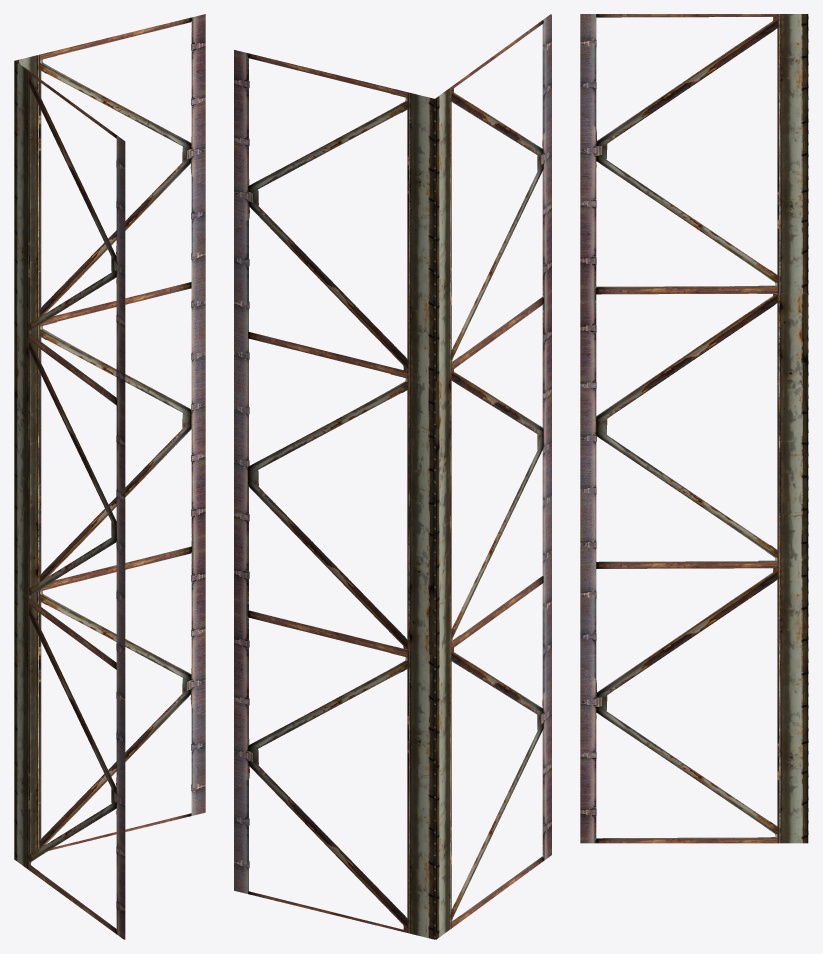
Rendered from Wall_Girders_Giant10mts_05.fbx.
3 views of the same model, side by side, from view 1: azimuth 30°, elevation 25°; view 2: azimuth 150°, elevation 25°; view 3: azimuth 270°, elevation 25° (orthographic). The views are drawn at different scales.
Visible parts, largest first — view 1: Wall_Girders_Giant10mts_05; view 2: Wall_Girders_Giant10mts_05; view 3: Wall_Girders_Giant10mts_05.
Boxes of the visible parts, left/top/right/bottom form: Wall_Girders_Giant10mts_05: left=14, top=14, right=205, bottom=939; Wall_Girders_Giant10mts_05: left=234, top=14, right=551, bottom=939; Wall_Girders_Giant10mts_05: left=580, top=14, right=808, bottom=843.
Size of the model in its own units: 502 by 2000 by 500.
